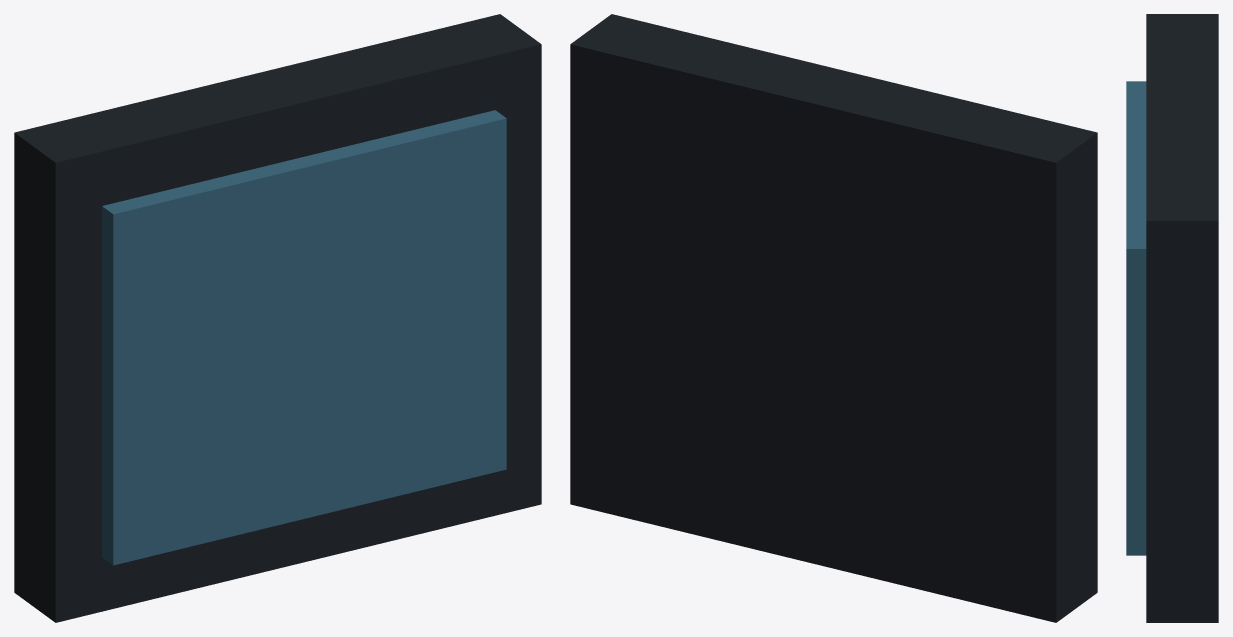
The model's file is orion_cm.window_03.glb.
The picture shows the model from 3 angles, left to right: view 1: azimuth 30°, elevation 25°; view 2: azimuth 150°, elevation 25°; view 3: azimuth 270°, elevation 25°; orthographic projection. The views are drawn at different scales.
Visible parts, largest first — view 1: orion_cm.window_03.mesh_Coated_optical_glass, orion_cm.window_03.mesh_Carbon_composite; view 2: orion_cm.window_03.mesh_Carbon_composite; view 3: orion_cm.window_03.mesh_Carbon_composite, orion_cm.window_03.mesh_Coated_optical_glass.
Boxes of the visible parts, <box> form: orion_cm.window_03.mesh_Coated_optical_glass: <box>102,110,506,565</box>; orion_cm.window_03.mesh_Carbon_composite: <box>14,14,541,622</box>; orion_cm.window_03.mesh_Carbon_composite: <box>570,14,1097,622</box>; orion_cm.window_03.mesh_Carbon_composite: <box>1146,14,1218,622</box>; orion_cm.window_03.mesh_Coated_optical_glass: <box>1126,81,1146,555</box>.
Bounding box in the file's own units: 0.42 × 0.38 × 0.079.
